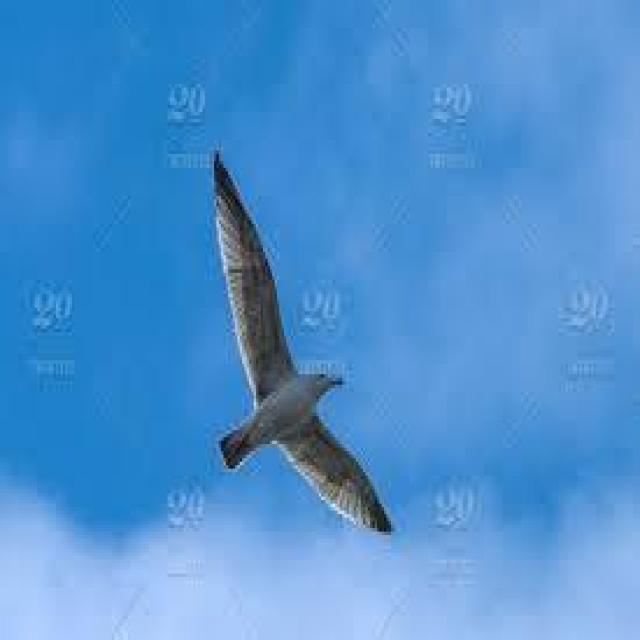bird: (214, 144, 396, 540)
